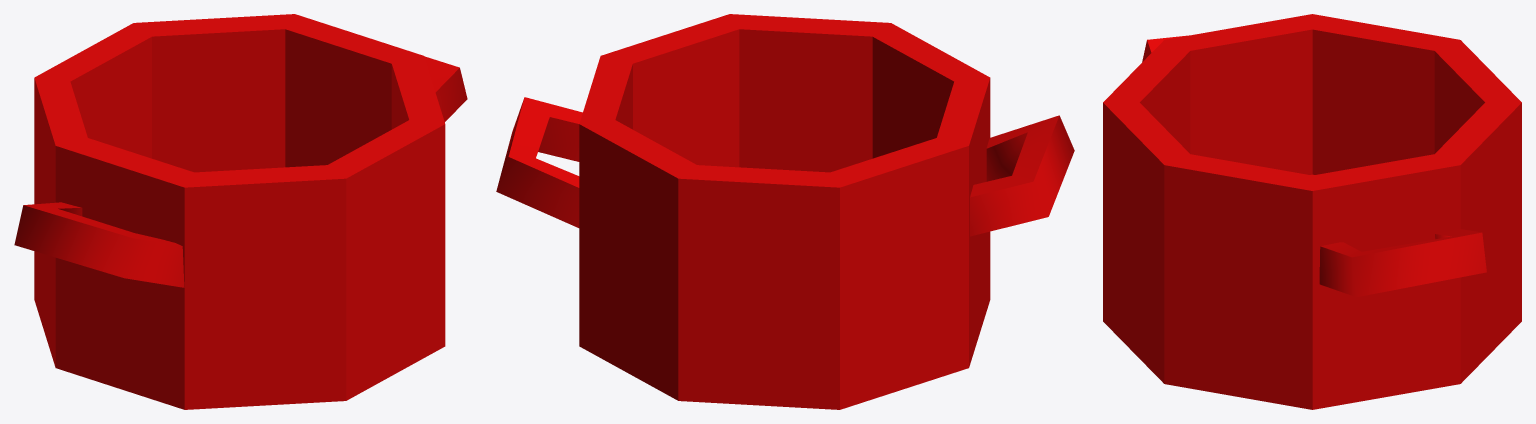
Rendered from gryde_FBX.fbx.
3 views of the same model, side by side, from view 1: azimuth 30°, elevation 25°; view 2: azimuth 150°, elevation 25°; view 3: azimuth 270°, elevation 25° (orthographic).
Parts seen in each view (by area): view 1: polySurface1; view 2: polySurface1; view 3: polySurface1.
Boxes of the visible parts, bbox=[...] form: polySurface1: bbox=[14, 14, 467, 409]; polySurface1: bbox=[496, 14, 1074, 409]; polySurface1: bbox=[1103, 14, 1521, 409].
Bounding box in the file's own units: 0.8996 × 0.3862 × 0.6699.
